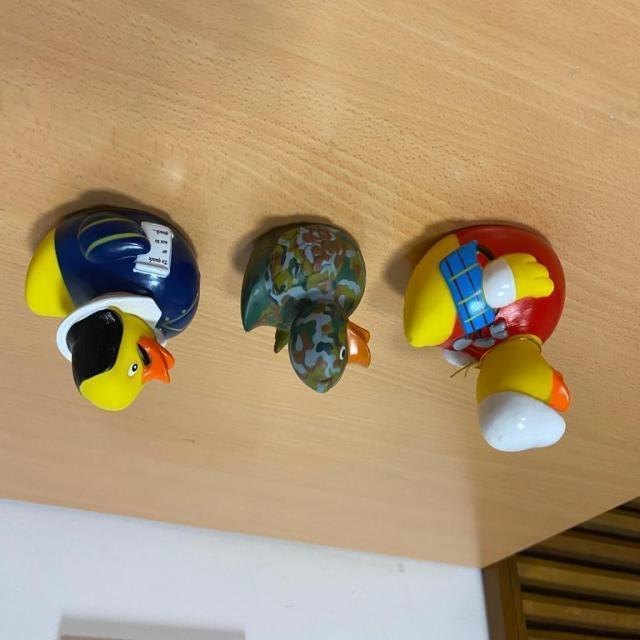rubber-duck: (403, 224, 568, 450), (24, 206, 198, 409), (240, 222, 368, 391)
